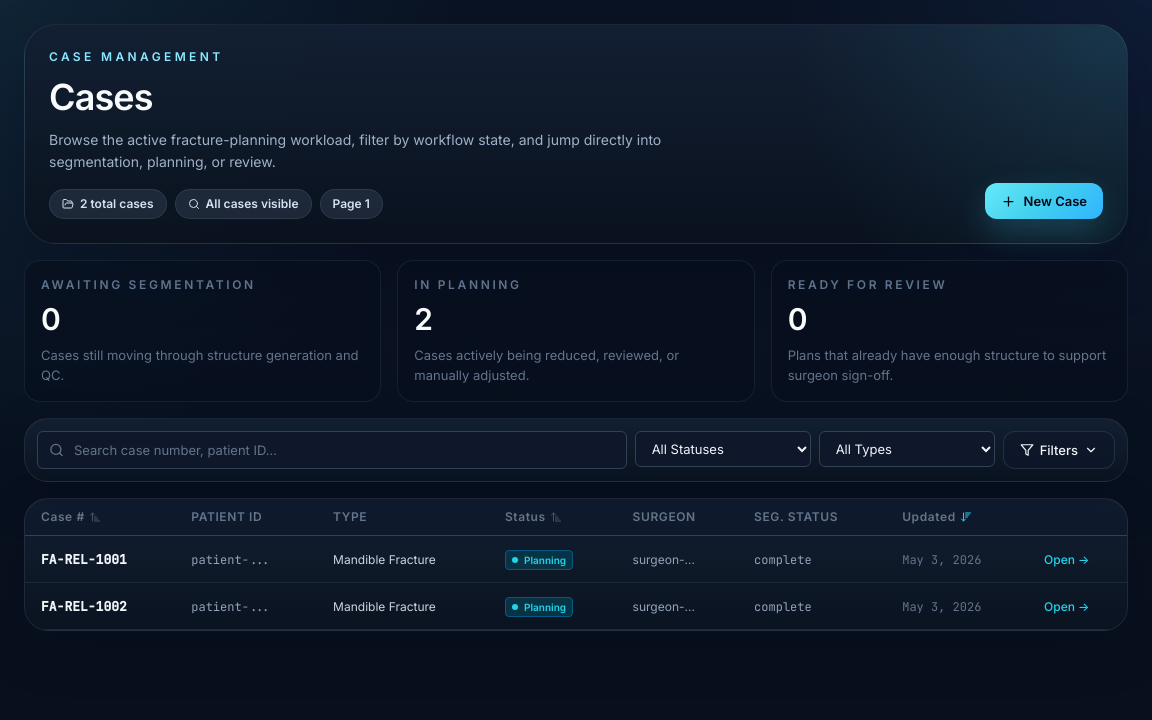
Scenario: CaseListPage › filters the rendered rows when using the search box
Check: the text "FA-REL-1001" is shown, box [41,550,127,568]
Check: the text "FA-REL-1002" is shown, box [41,598,127,614]
Type "1002" into the field with test id "search-input" at (332, 450), box [37,431,627,469]
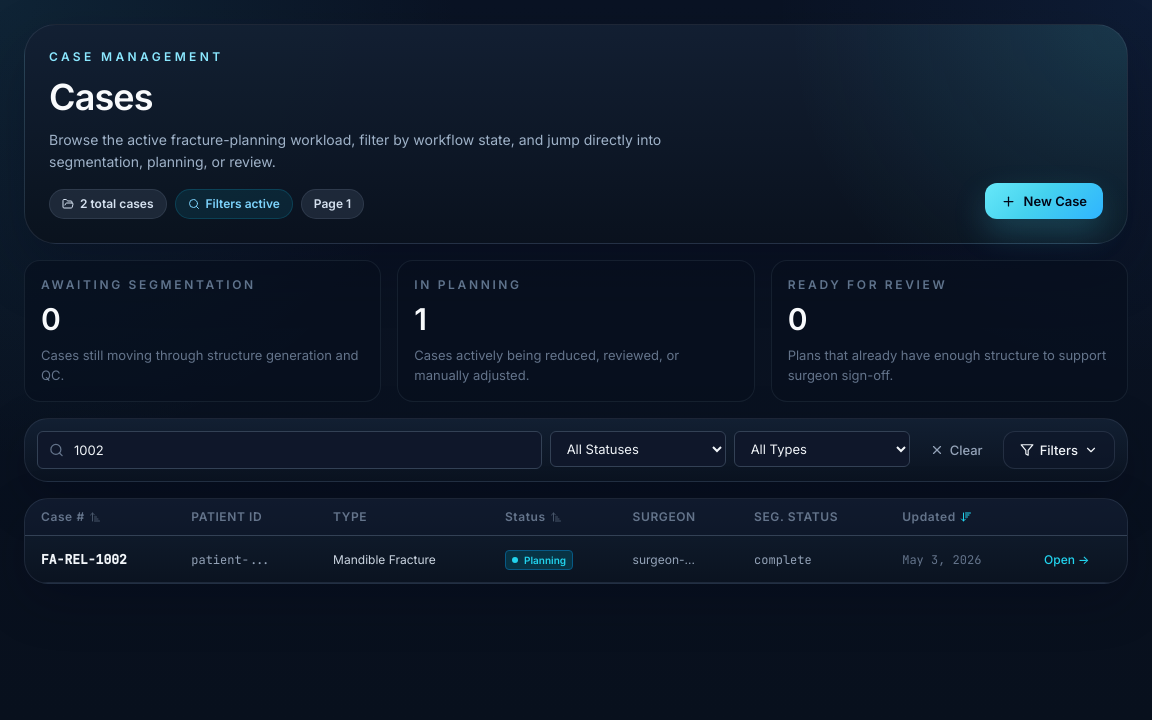
Check: the text "FA-REL-1002" is shown, box [41,550,127,568]
Check: the text "FA-REL-1001" is gone
